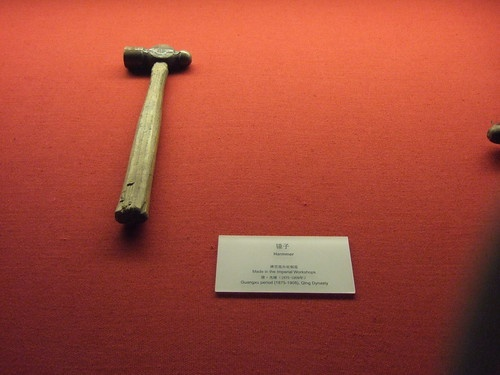hammer: (114, 46, 192, 226)
